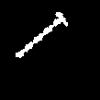half_double_crochet: (16, 12, 67, 57)
